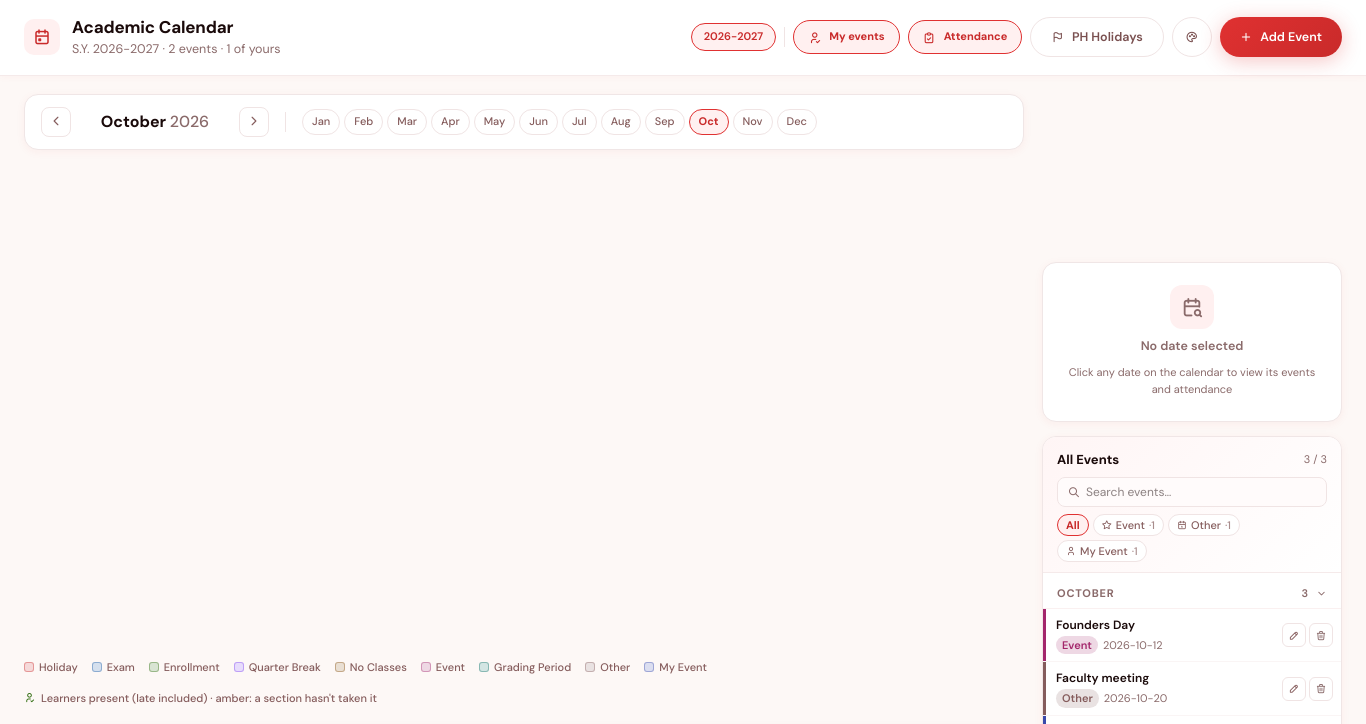
Test: an admin or the registrar › keeps a grading period from guardians
Click the button "Add Event" at (1281, 37), box 1220,17 -> 1342,57
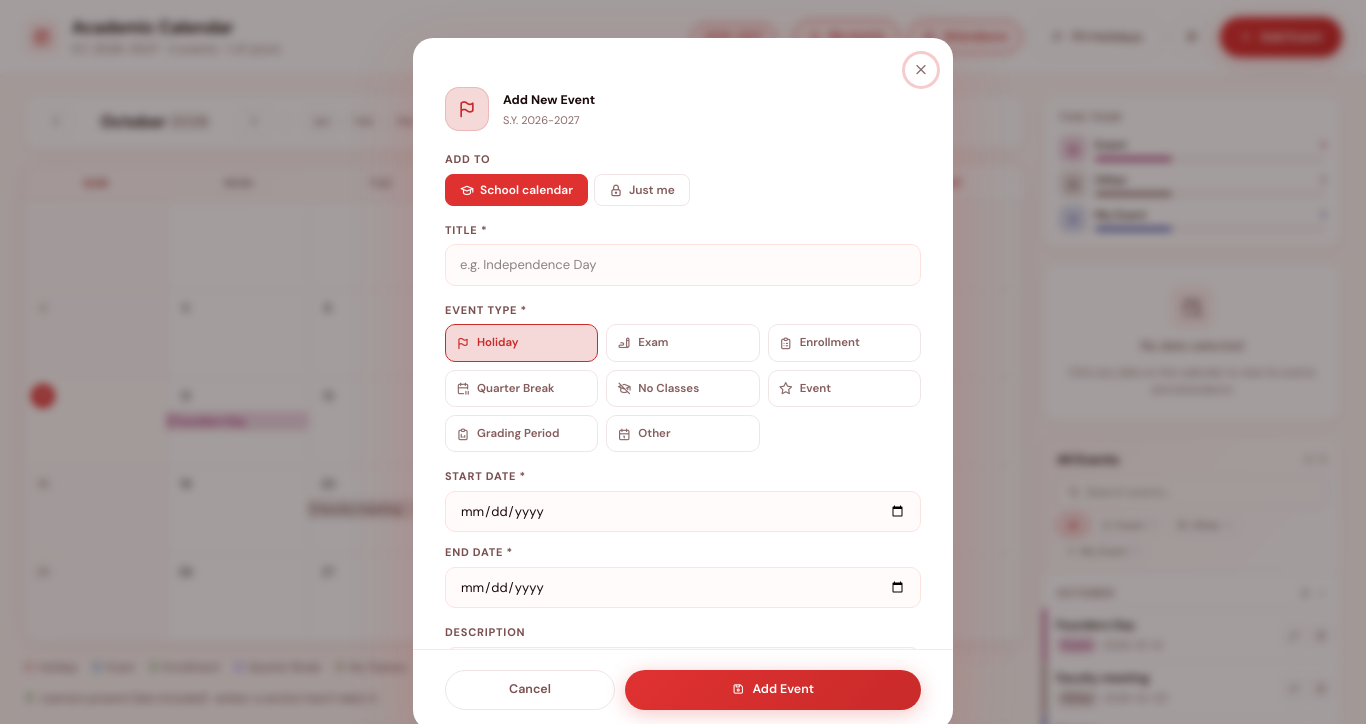
Check: the heading "Add New Event" is shown, box 503,92 -> 595,108
Click the button "Grading Period" at (522, 434), box 445,415 -> 598,452
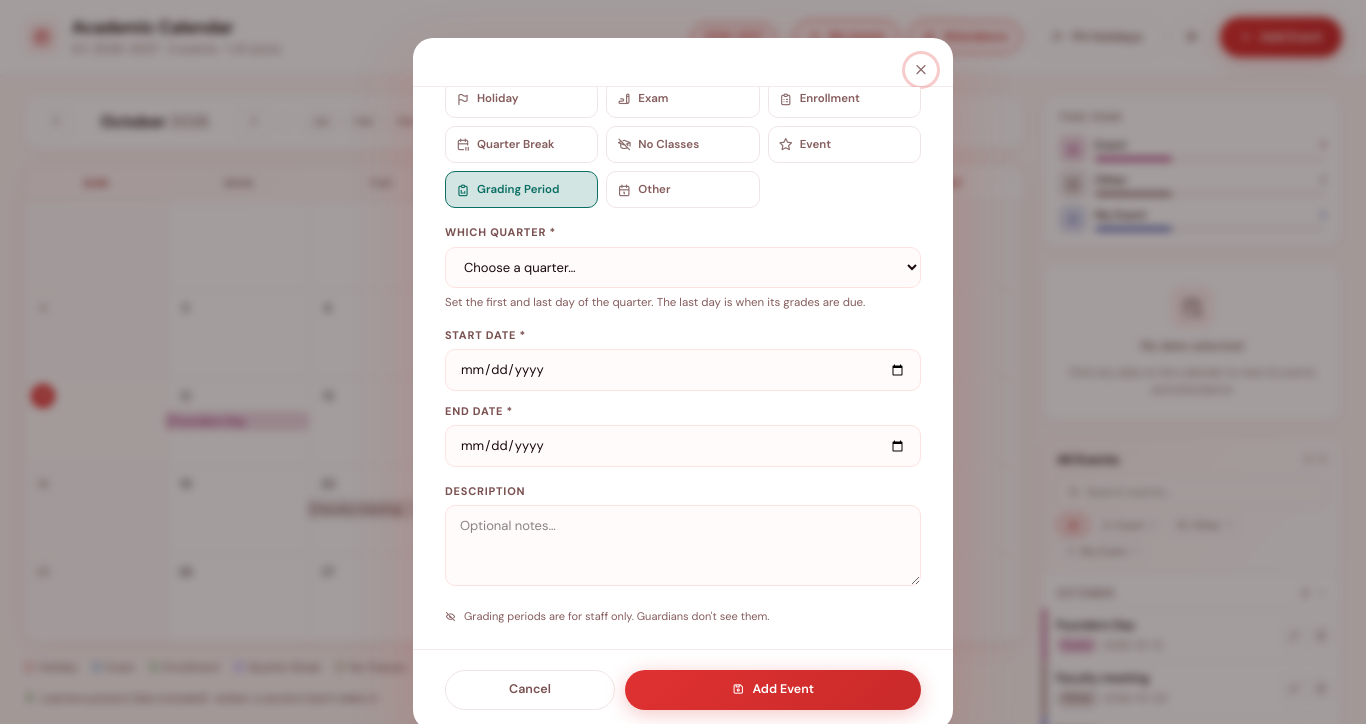
Check: the text "Show on the guardian portal" is not shown
Check: the text "Grading periods are for staff only" is shown, box 464,609 -> 770,623
